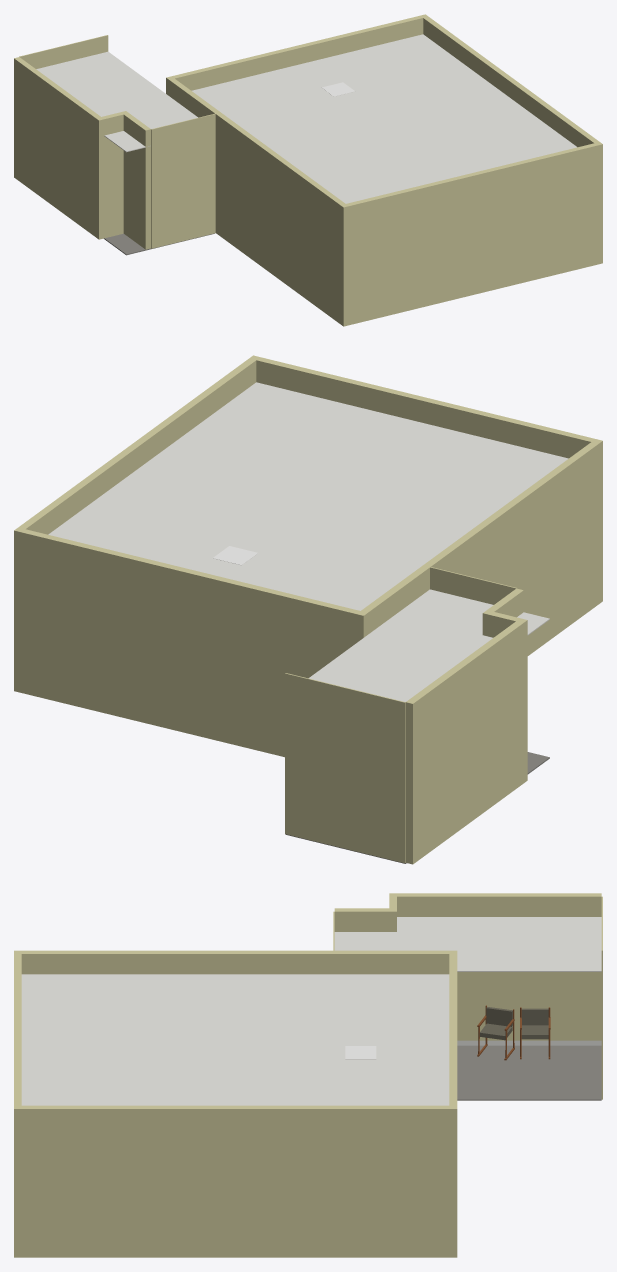
The model's file is chambers2146.glb.
The picture shows the model from 3 angles, top to bottom: view 1: azimuth 30°, elevation 25°; view 2: azimuth 150°, elevation 25°; view 3: azimuth 270°, elevation 25°; orthographic projection. The views are drawn at different scales.
Parts seen in each view (by area): view 1: Ceiling_ACT_2x2, Corridor_2CE1_Shell, Wall_South_(to_2130), Wall_West_(to_2CE1,_door), Wall_North_(whiteboard_wall,_to_2CE2), Wall_East_(to_2CE3); view 2: Ceiling_ACT_2x2, Corridor_2CE1_Shell, Wall_North_(whiteboard_wall,_to_2CE2), Wall_West_(to_2CE1,_door), Wall_South_(to_2130), Wall_East_(to_2CE3); view 3: Wall_East_(to_2CE3), Ceiling_ACT_2x2, Corridor_2CE1_Shell, Wall_West_(to_2CE1,_door), Wall_North_(whiteboard_wall,_to_2CE2), Wall_South_(to_2130), Lobby_Chair_1, Lobby_Chair_2.
Boxes of the visible parts, box(x1,y1,x2,y2) form: Ceiling_ACT_2x2: box(191, 34, 576, 203); Corridor_2CE1_Shell: box(14, 35, 215, 255); Wall_South_(to_2130): box(340, 142, 602, 326); Wall_West_(to_2CE1,_door): box(169, 78, 345, 323); Wall_North_(whiteboard_wall,_to_2CE2): box(166, 14, 427, 95); Wall_East_(to_2CE3): box(423, 16, 599, 147); Ceiling_ACT_2x2: box(48, 382, 568, 610); Corridor_2CE1_Shell: box(285, 567, 549, 864); Wall_North_(whiteboard_wall,_to_2CE2): box(14, 527, 367, 757); Wall_West_(to_2CE1,_door): box(361, 442, 598, 655); Wall_South_(to_2130): box(249, 355, 602, 603); Wall_East_(to_2CE3): box(18, 358, 256, 534); Wall_East_(to_2CE3): box(21, 1105, 449, 1257); Ceiling_ACT_2x2: box(21, 974, 449, 1105); Corridor_2CE1_Shell: box(333, 893, 602, 1100); Wall_West_(to_2CE1,_door): box(21, 950, 449, 974); Wall_North_(whiteboard_wall,_to_2CE2): box(449, 950, 457, 1257); Wall_South_(to_2130): box(14, 950, 21, 1257); Lobby_Chair_1: box(477, 1005, 514, 1060); Lobby_Chair_2: box(520, 1007, 550, 1059).
Bounding box in the file's own units: 9.94 × 3.23 × 11.48.
